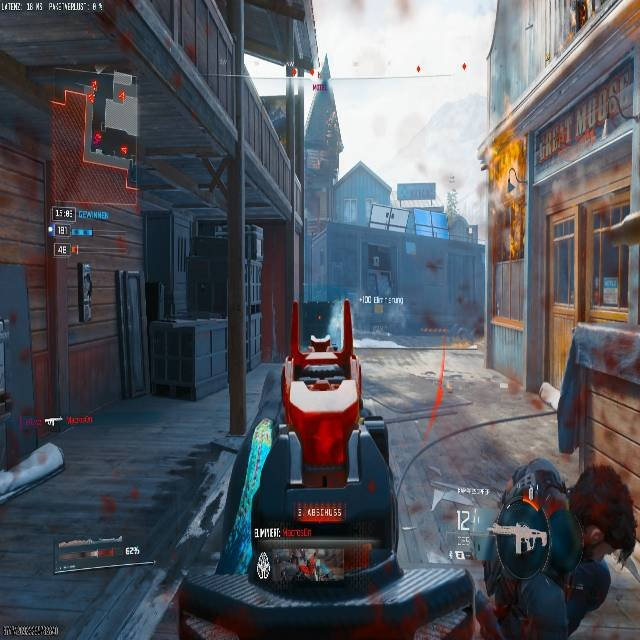player: (476, 460, 631, 639), (0, 388, 66, 520)
